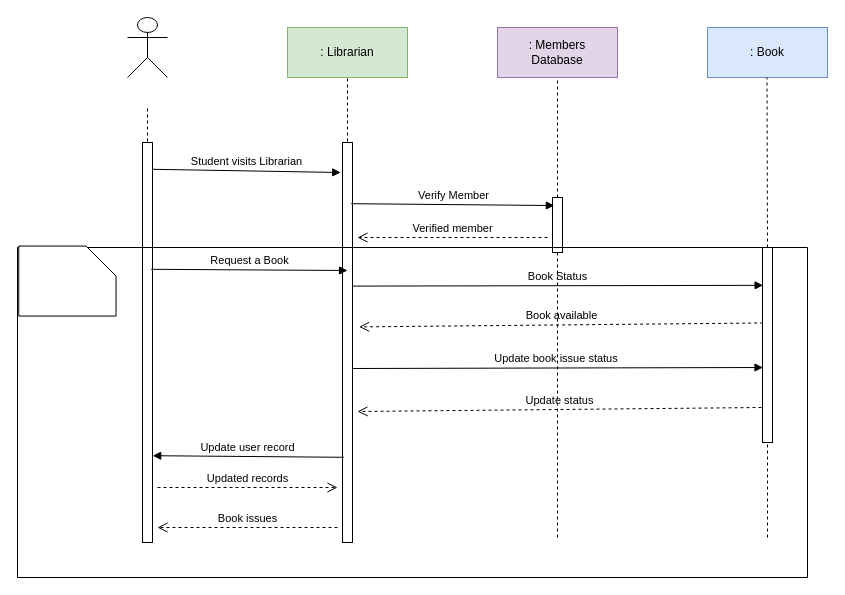
This 845x595 diagram has some shape labels left out. Here are the shapes that lost their labels. From the top down, the centre of each, then its label:
At (x=147, y=47): "Student".
At (x=67, y=280): "Loop for issuing book".
